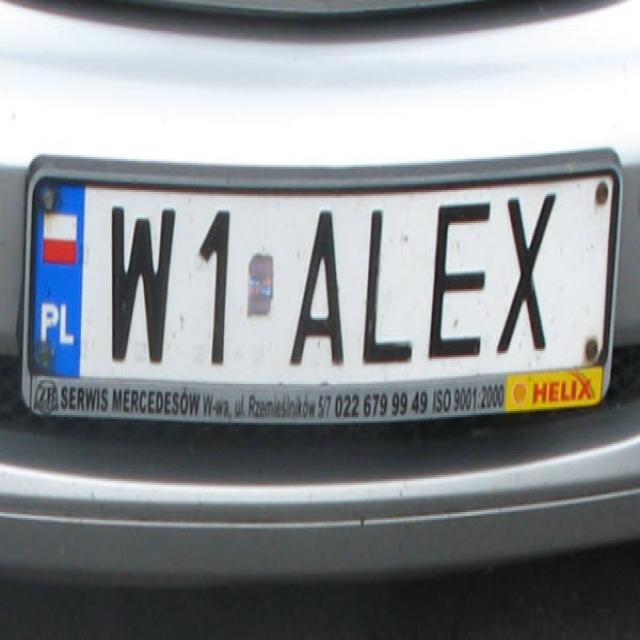pl_license_plate: (31, 180, 611, 374)
